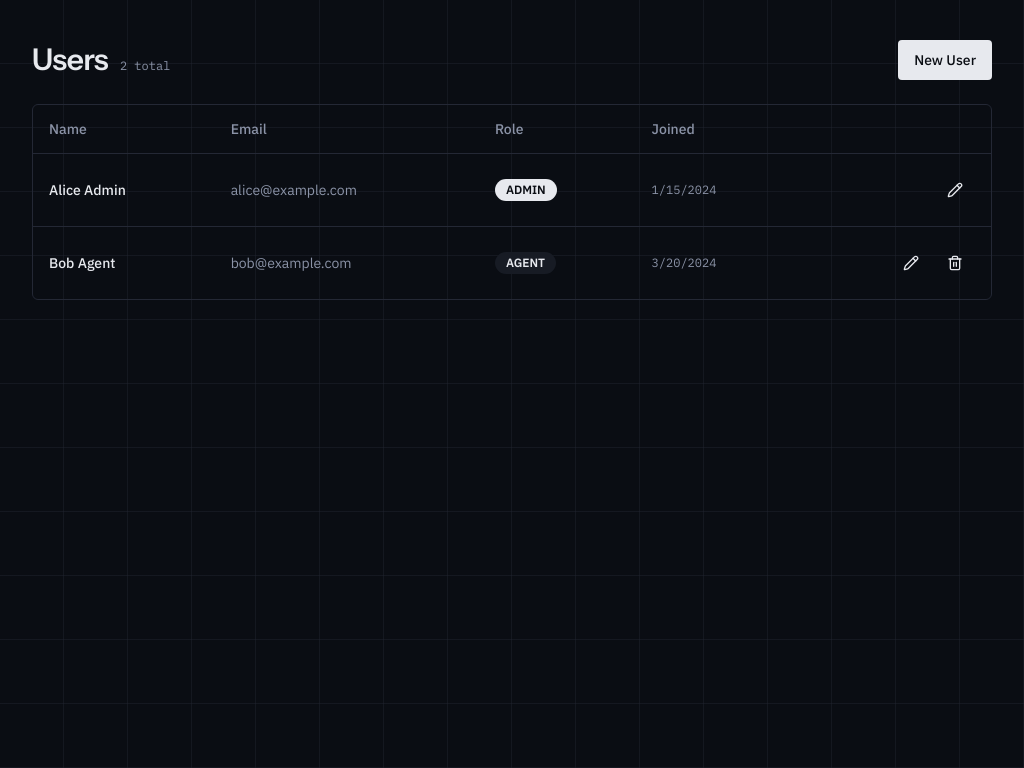
Test case: UsersPage - dialog › shows the dialog when "New User" is clicked
Check: the text "Alice Admin" is shown, box [33, 153, 215, 226]
Step 1. Click the button "New User" → coordinates (945, 60), box [898, 40, 992, 80]
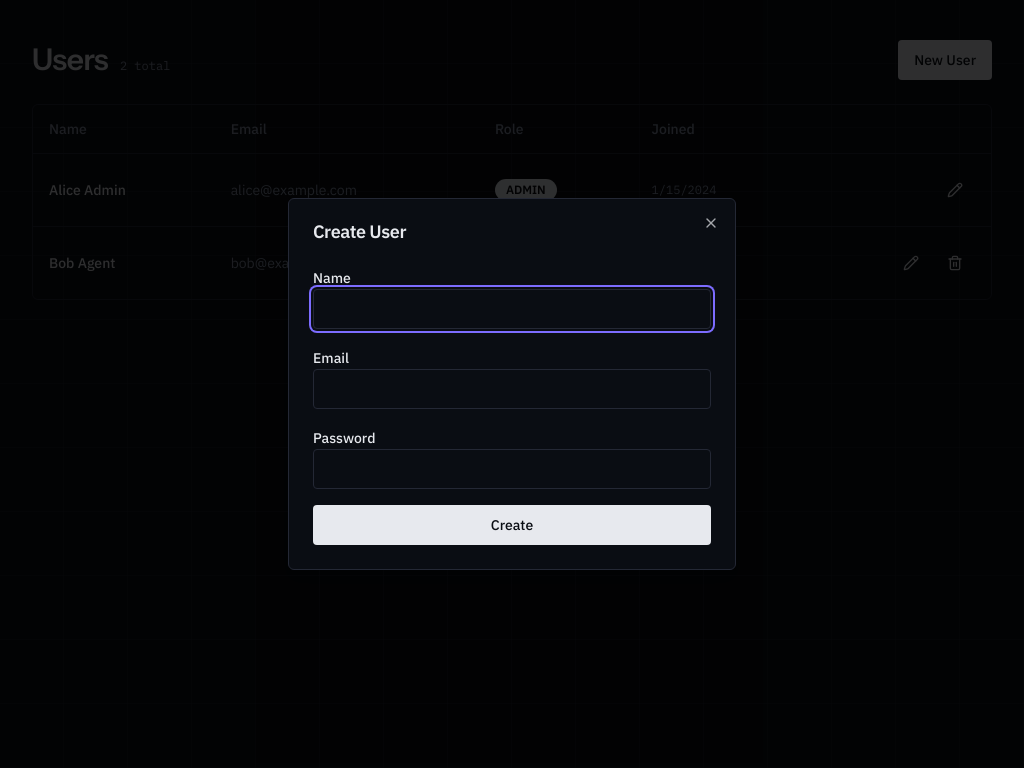
Check: the dialog is shown, box [288, 198, 736, 570]
